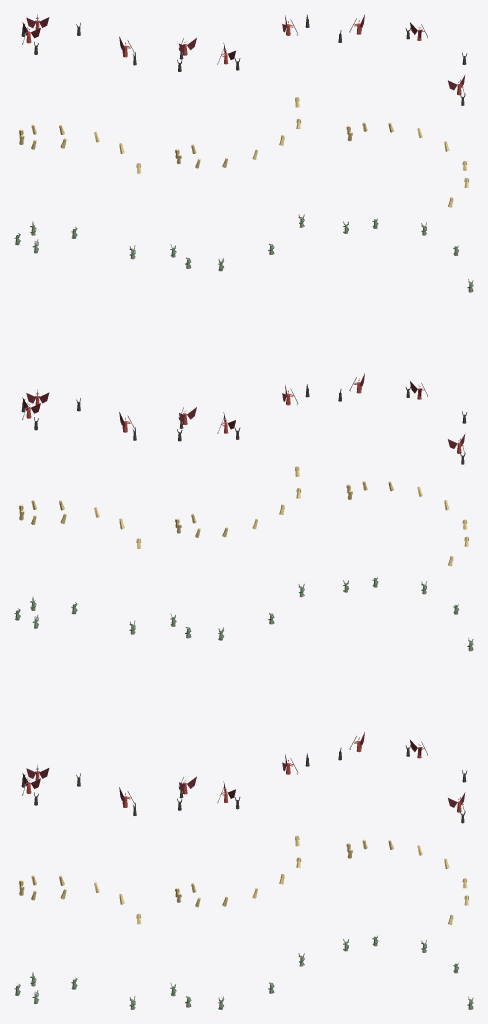
File: Circle8Folk1.obj
3 views of the same model, side by side, from view 1: azimuth 30°, elevation 25°; view 2: azimuth 150°, elevation 25°; view 3: azimuth 330°, elevation 25° (orthographic). The views are drawn at different scales.
Visible parts, largest first — view 1: Circle8Folk1; view 2: Circle8Folk1; view 3: Circle8Folk1.
Boxes of the visible parts, bbox=[...] form: Circle8Folk1: bbox=[14, 14, 141, 1009]; Circle8Folk1: bbox=[170, 14, 309, 1009]; Circle8Folk1: bbox=[338, 14, 473, 1009].
Size of the model in its own units: 27.1 by 216 by 21.97.
Materials: 1 (1 with a texture image).
